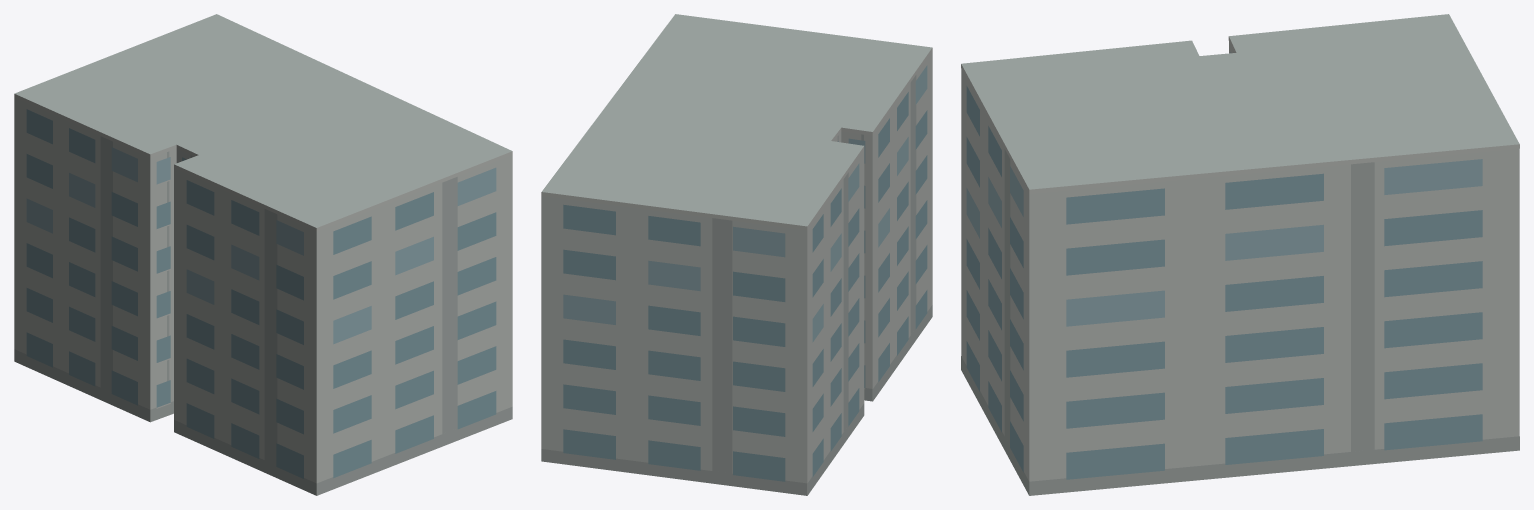
Rendered from survey-upis-32800133.glb.
3 views of the same model, side by side, from view 1: azimuth 30°, elevation 25°; view 2: azimuth 150°, elevation 25°; view 3: azimuth 270°, elevation 25° (orthographic). The views are drawn at different scales.
Visible parts, largest first — view 1: survey-upis-32800133.tmp; view 2: survey-upis-32800133.tmp; view 3: survey-upis-32800133.tmp.
Part boxes in pixels (x1,y1,x2,y2): survey-upis-32800133.tmp: (14, 14, 512, 495); survey-upis-32800133.tmp: (541, 14, 932, 495); survey-upis-32800133.tmp: (961, 14, 1519, 495).
Bounding box in the file's own units: 20.68 × 16.8 × 27.79.
